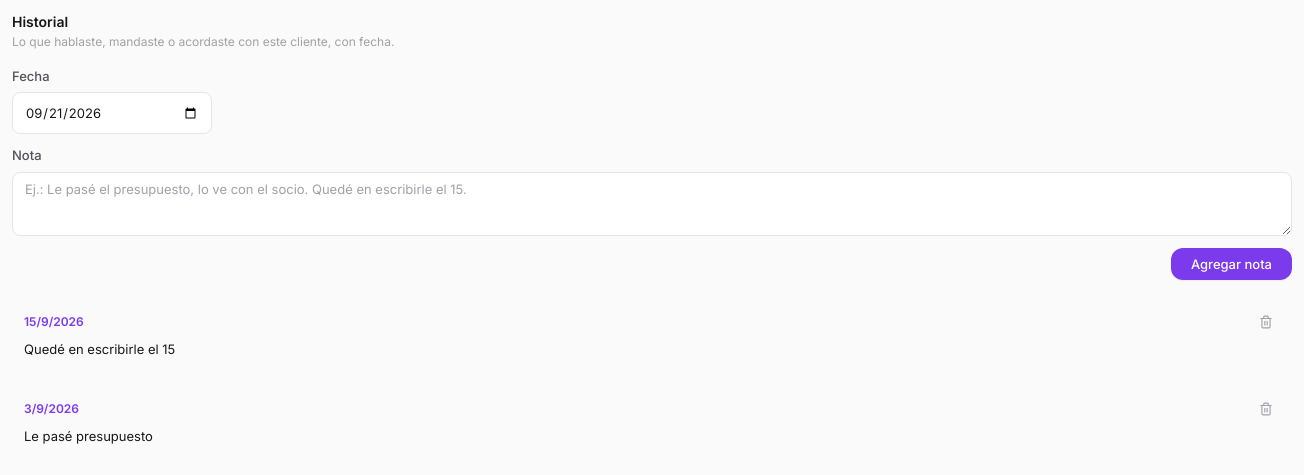
Test: ClientNotes — delete › asks inline before deleting and does nothing until confirmed
The width and height of the screenshot is (1304, 475).
What coordinates should you click on to do the following:
click the button named "Eliminar" in the row of "15/9/2026"
I would click on:
 (1266, 322)
Its box is left=1252, top=308, right=1280, bottom=336.
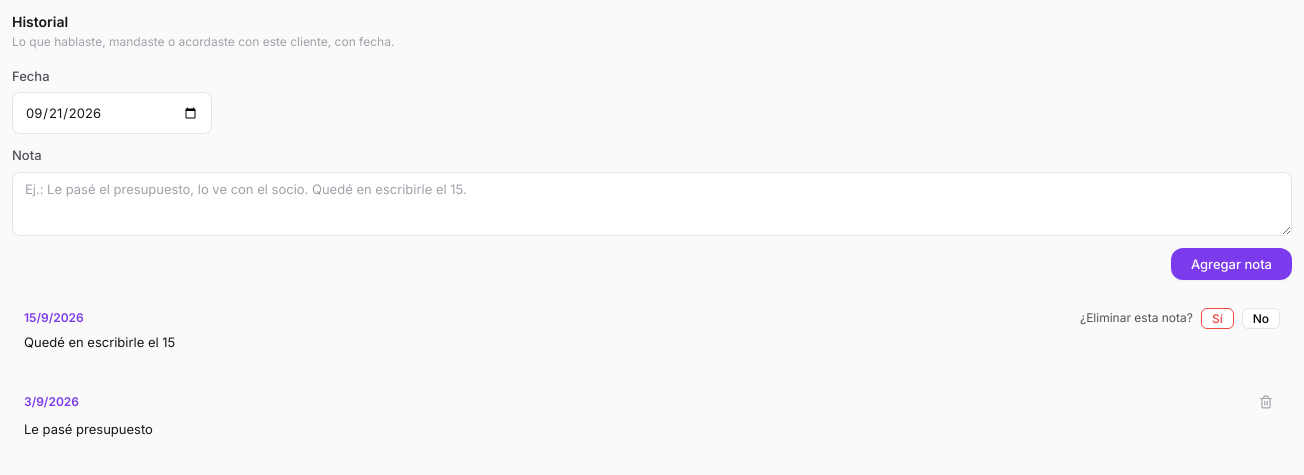
Expected: the text "¿Eliminar esta nota?" is shown, left=1080, top=309, right=1193, bottom=327
What coordinates should you click on to do the following:
click the button "No"
I would click on:
 (1261, 318)
Its box is left=1242, top=308, right=1280, bottom=328.
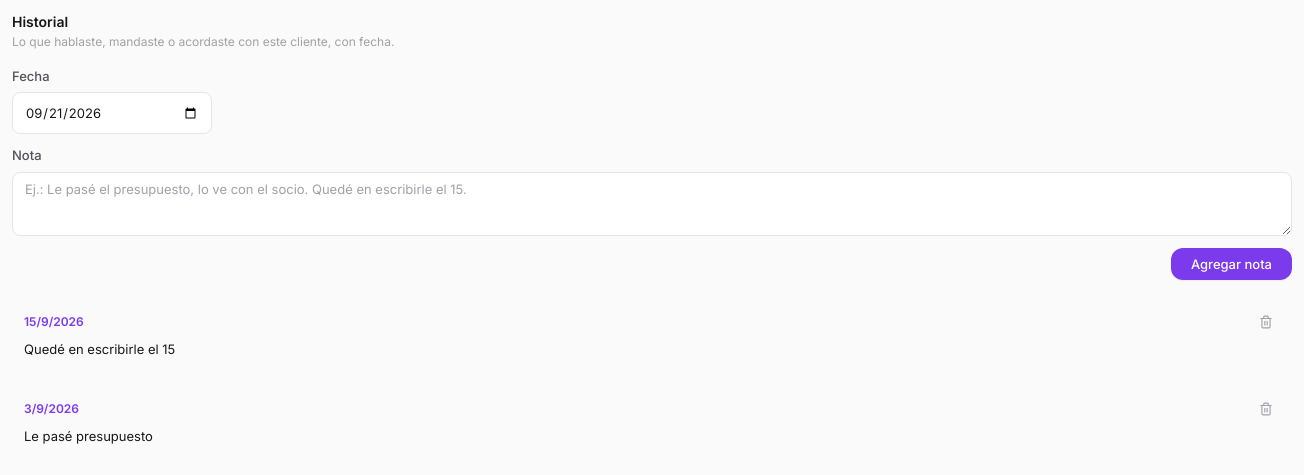
Expected: the number of list items is 2, left=12, top=296, right=1292, bottom=371; left=12, top=383, right=1292, bottom=458
Expected: the text "¿Eliminar esta nota?" is gone
